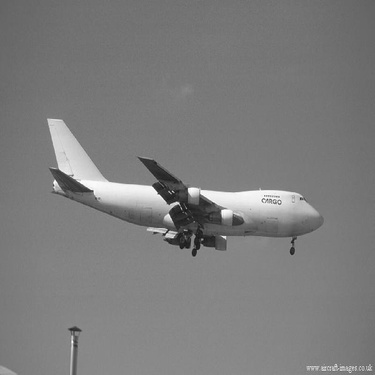airplane: (30, 101, 336, 277)
